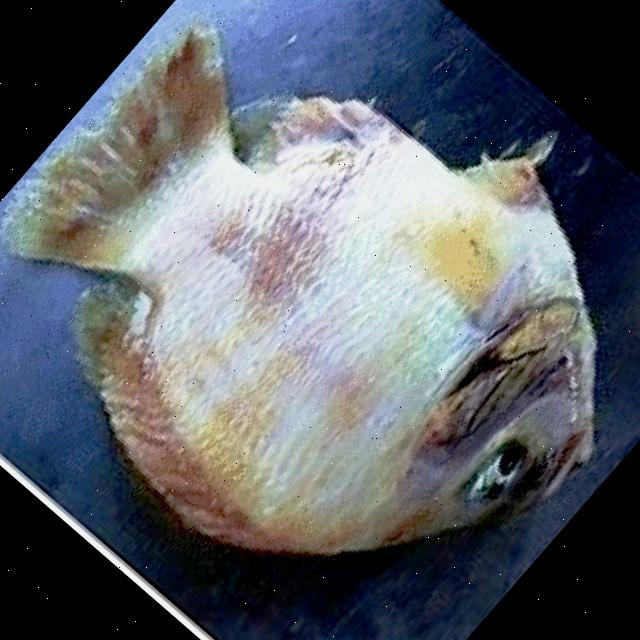Tilapia Lake Virus -TiLV-: (0, 25, 594, 554)
